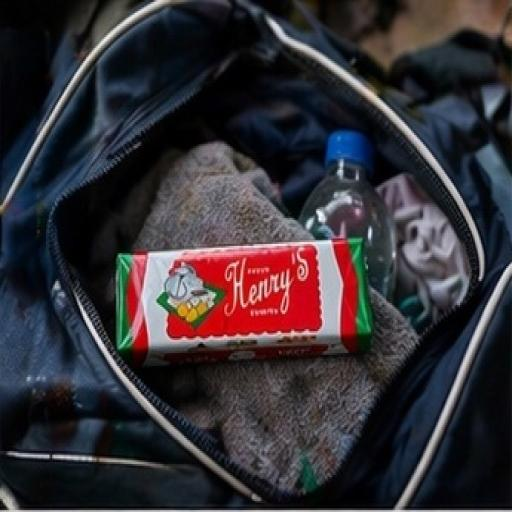henry-s: (82, 188, 439, 405)
